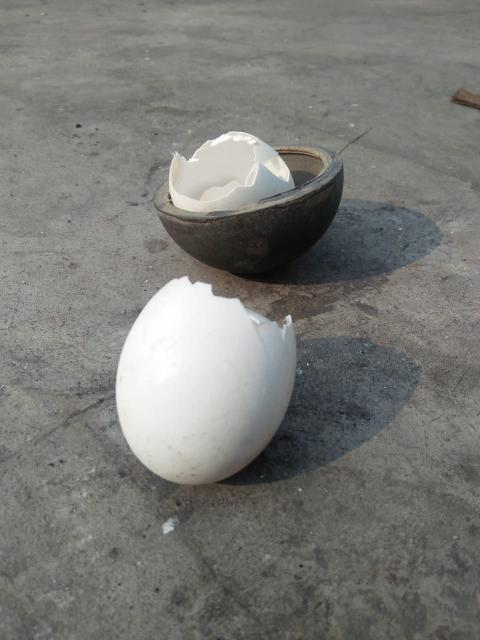Roto: (114, 274, 298, 486), (167, 130, 296, 213)
